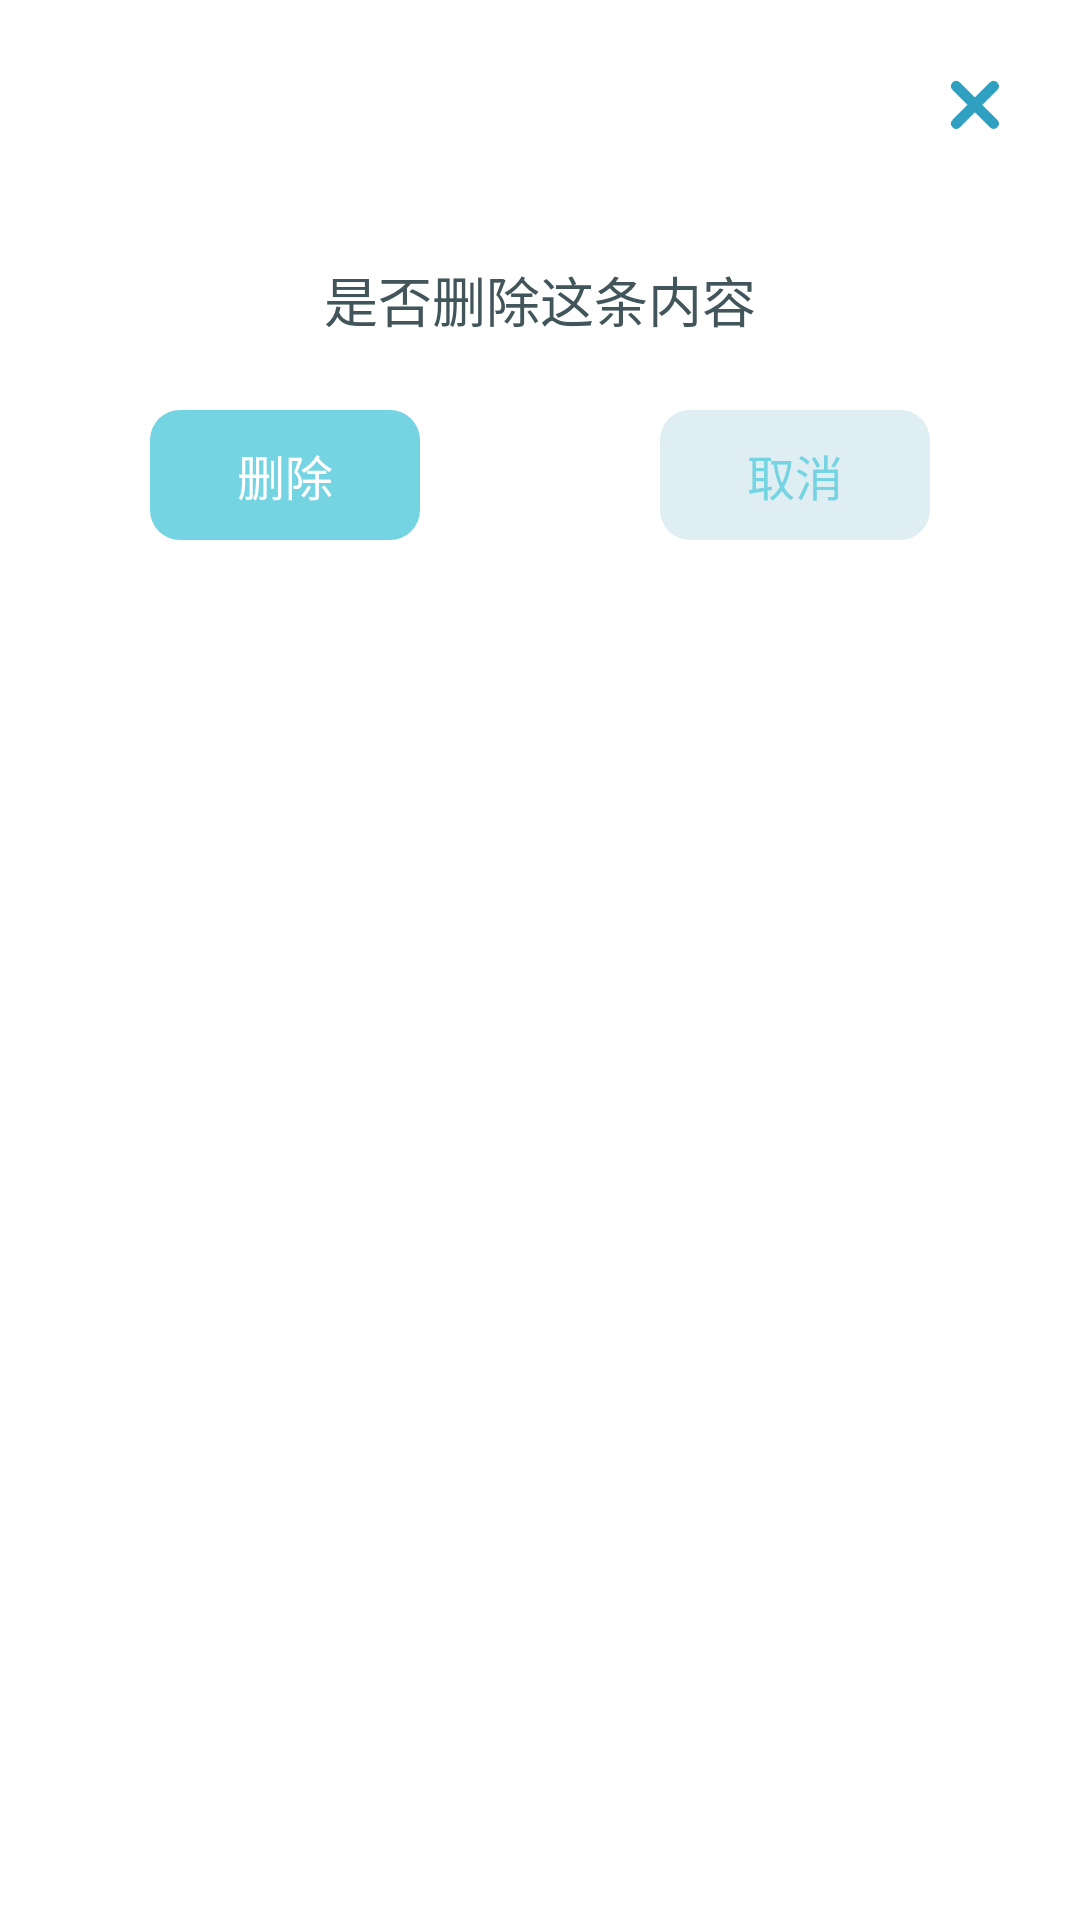

Point at icon controls on the screen. Image size 1080px x 1920px, points as (x=x, y=y).
cancel: (x=974, y=104)
